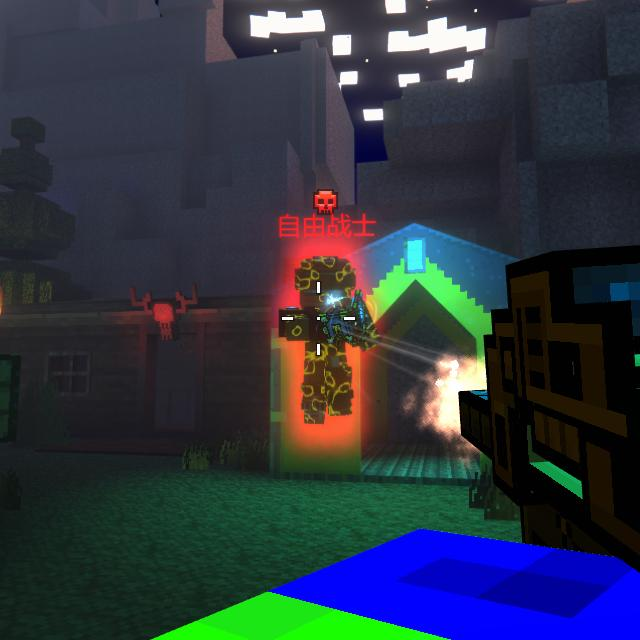Enemy: (278, 256, 383, 425)
